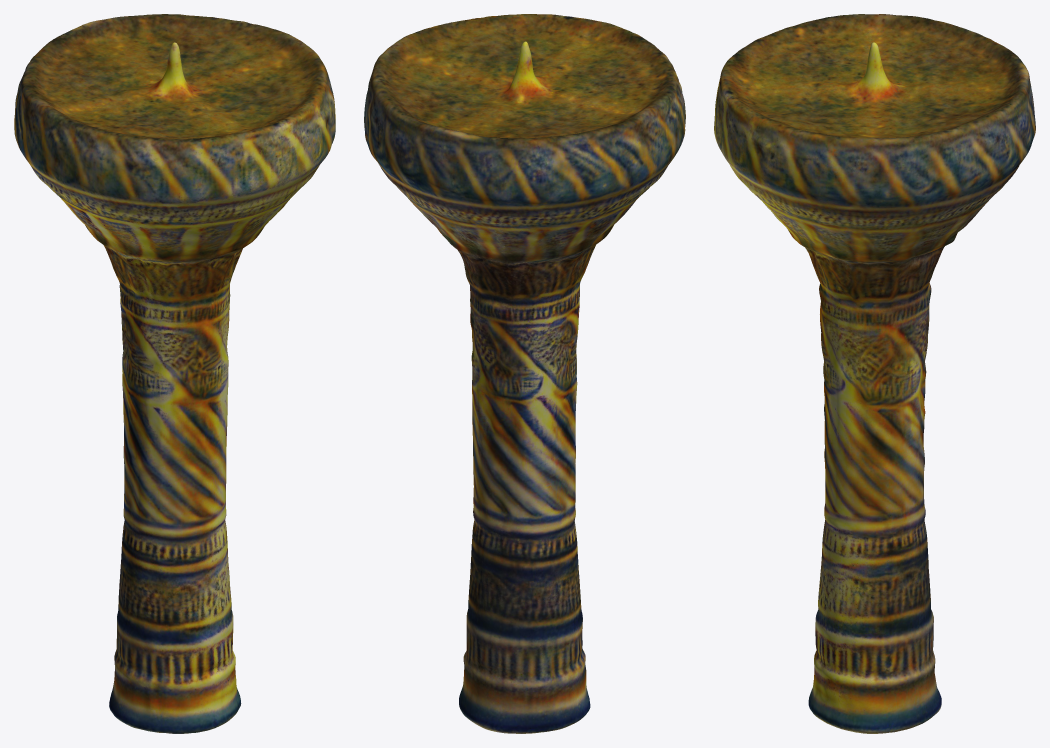
The model's file is 7ba5a1f11e98_Egyptian_torch_min.fbx.
3 renders of one model, left to right at view 1: azimuth 30°, elevation 25°; view 2: azimuth 150°, elevation 25°; view 3: azimuth 270°, elevation 25°, orthographic.
Visible parts, largest first — view 1: high_poly; view 2: high_poly; view 3: high_poly.
Part boxes in pixels (box(x1,y1,x2,y2)): high_poly: box(14, 14, 335, 733); high_poly: box(364, 14, 685, 733); high_poly: box(714, 14, 1035, 733).
Size of the model in its own units: 43.53 by 100 by 43.8.
